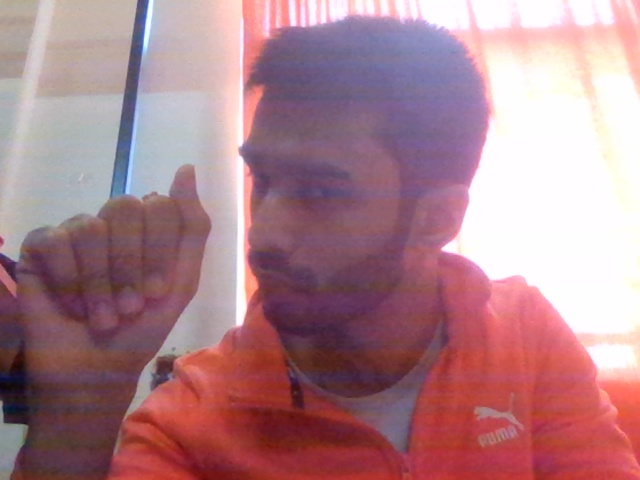A: (6, 155, 244, 441)
